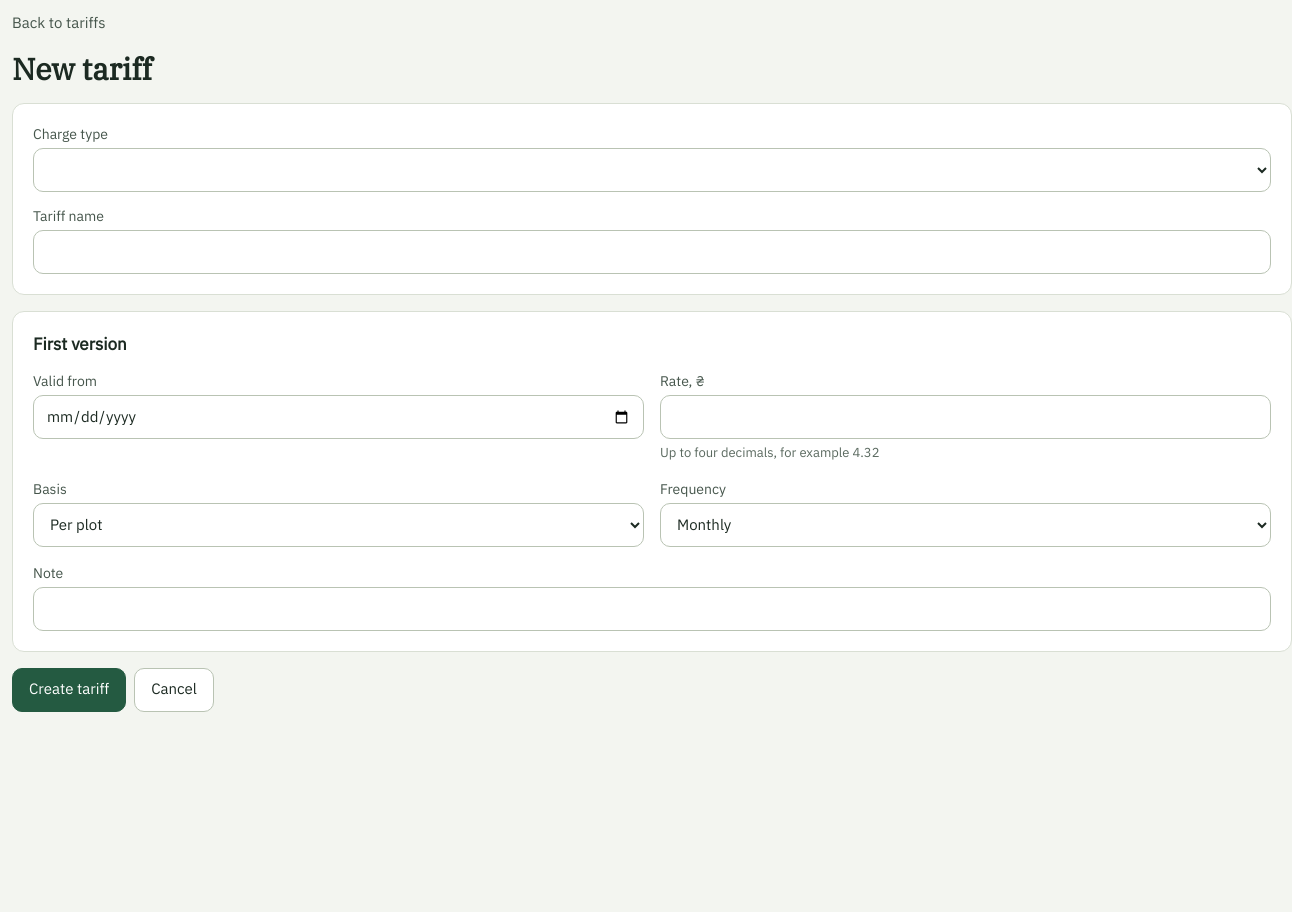
Scenario: TariffFormPage › maps server field errors with the firstVersion prefix onto the fields
Select "Membership fee" in the dropdown labelled "Charge type" at [652, 170], box [33,148,1271,192]
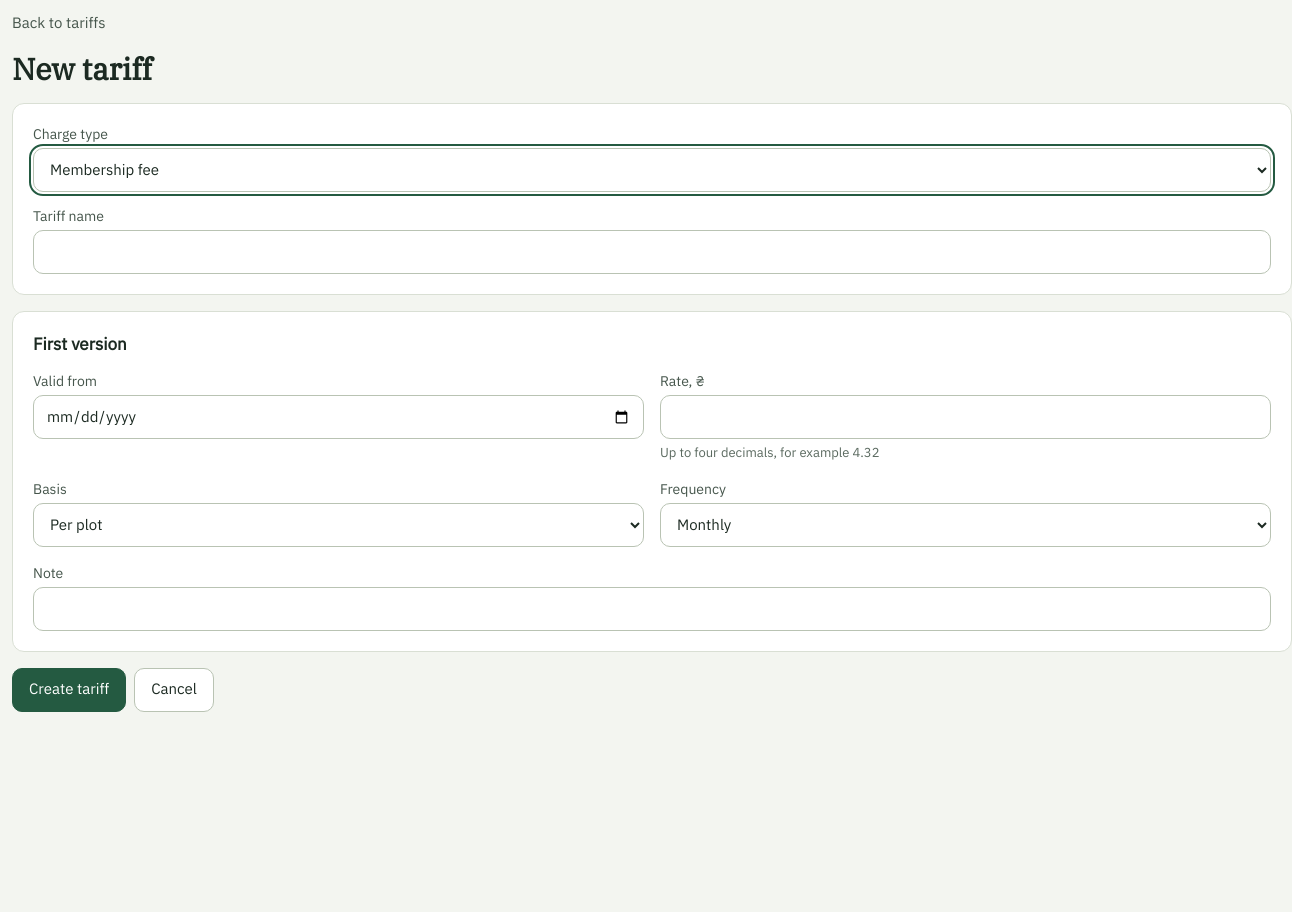
Type " Per sotka " into the field labelled "Tariff name" at [652, 252], box [33,230,1271,274]
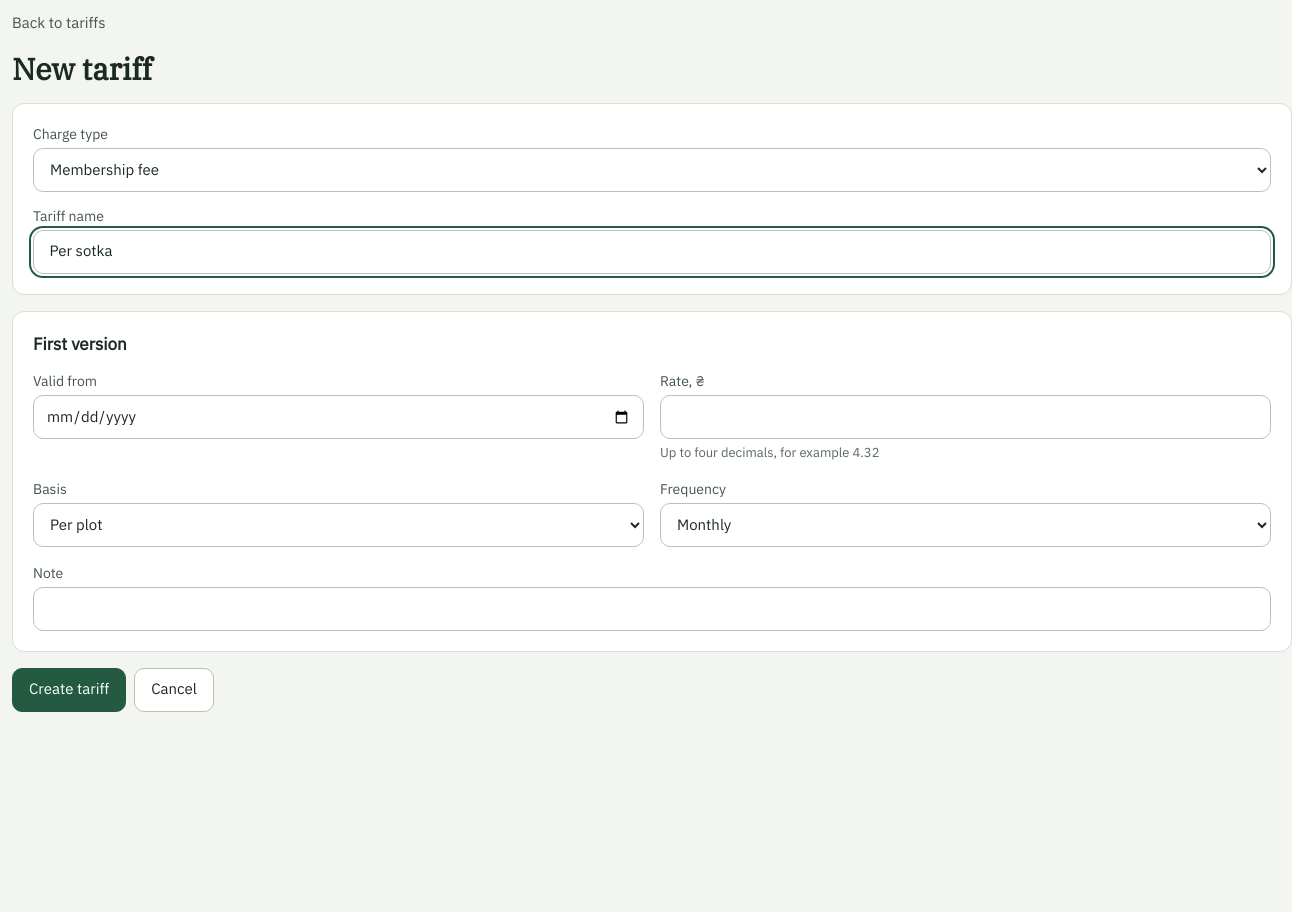
Type "2999-01-01" into the date field labelled "Valid from" at [338, 417], box [33,395,644,439]
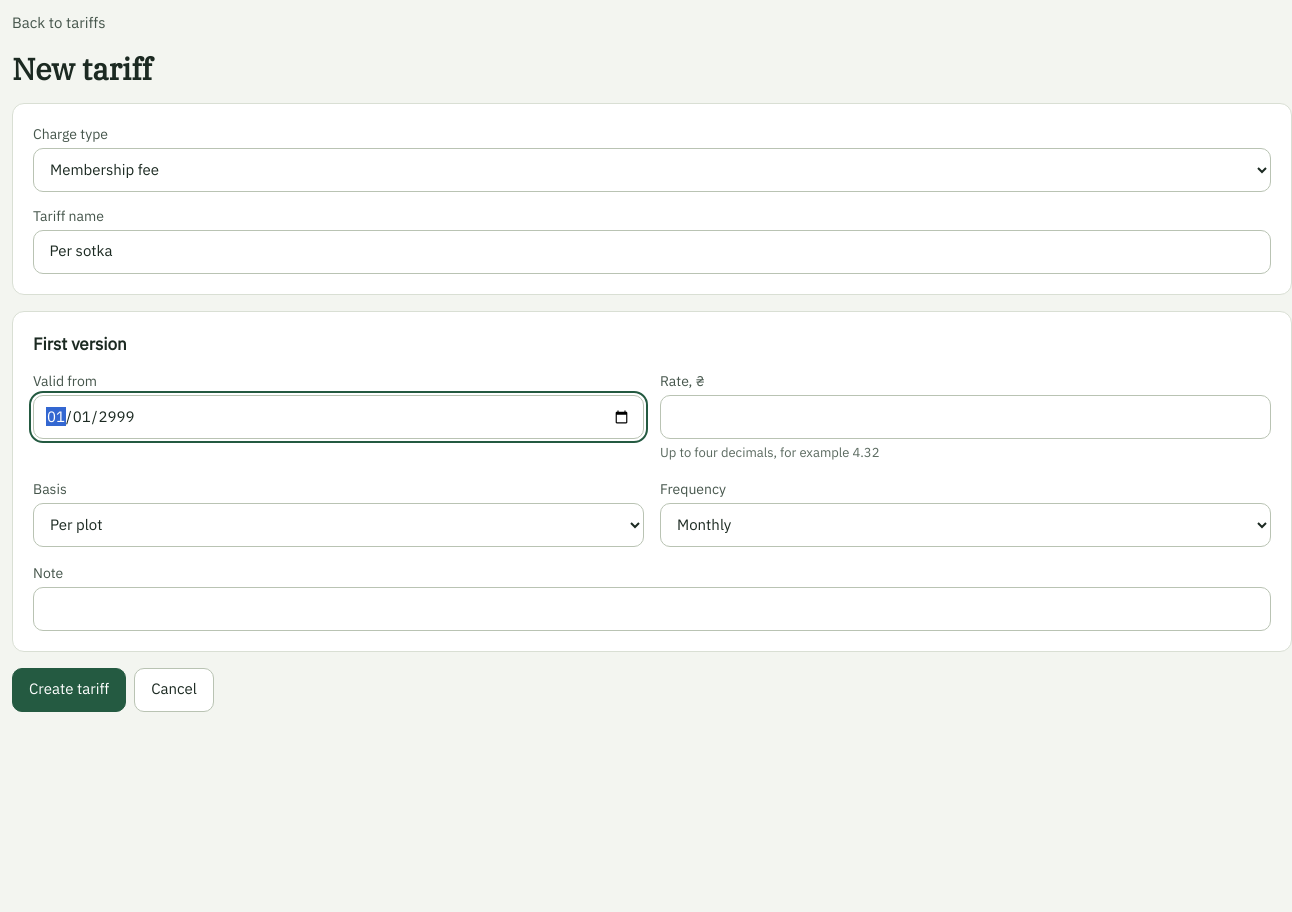
Type "4,32" into the field labelled "Rate, ₴" at [966, 417], box [660,395,1271,439]
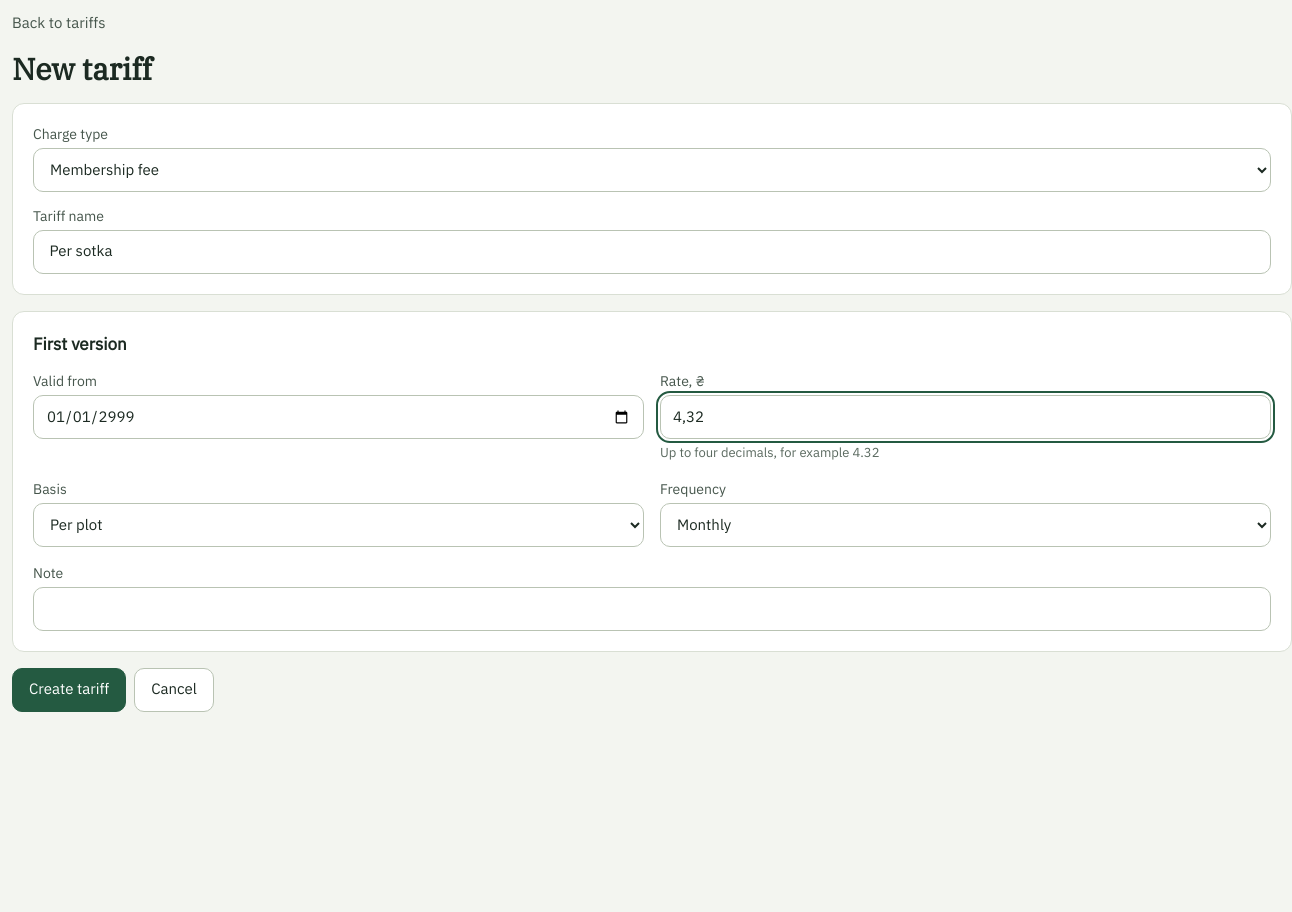
Click the button "Create tariff" at [69, 690], box [12,668,126,712]
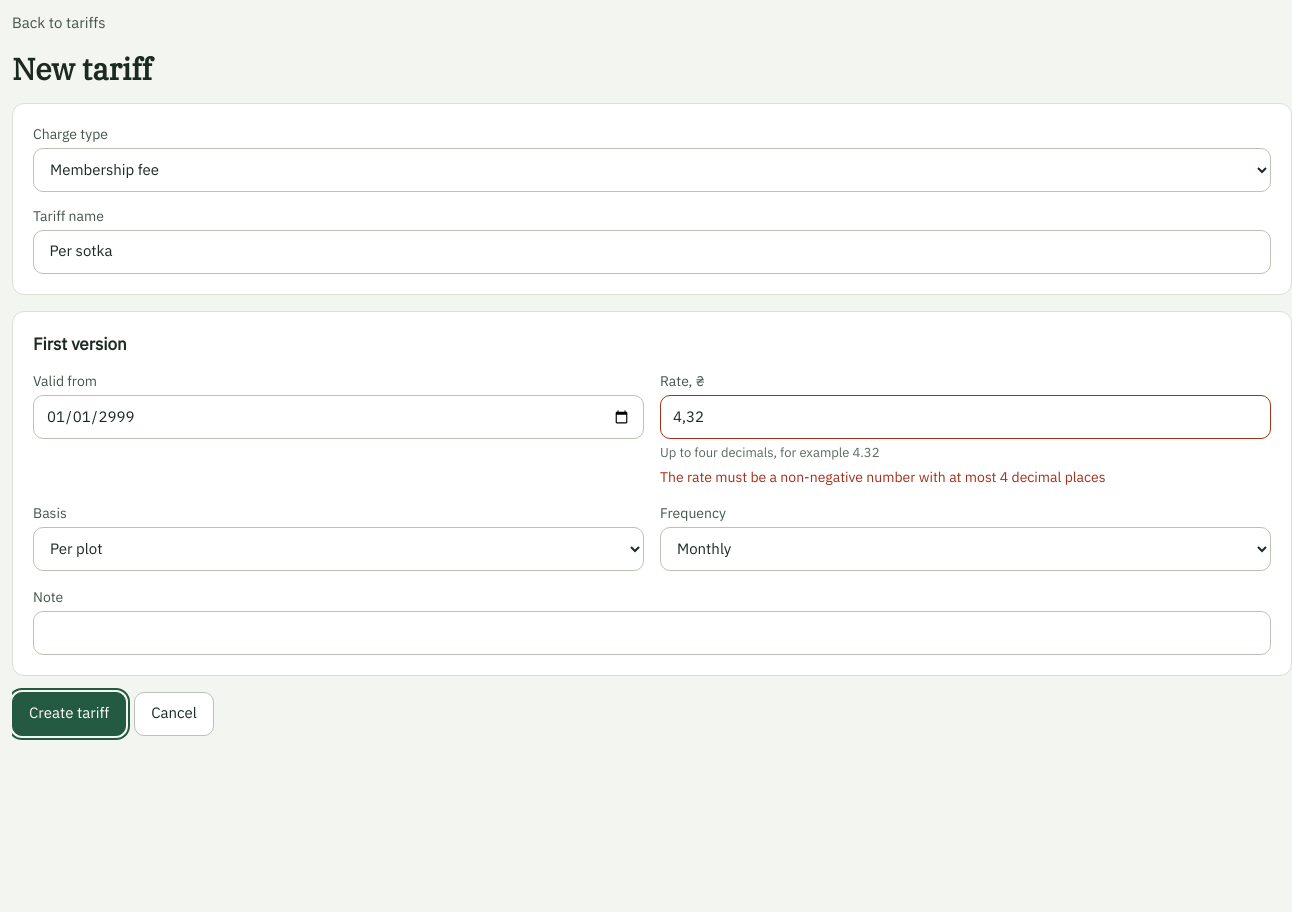
Check: the text "The rate must be a non-negative number with at most 4 decimal places" is shown, box [660,468,1106,486]
